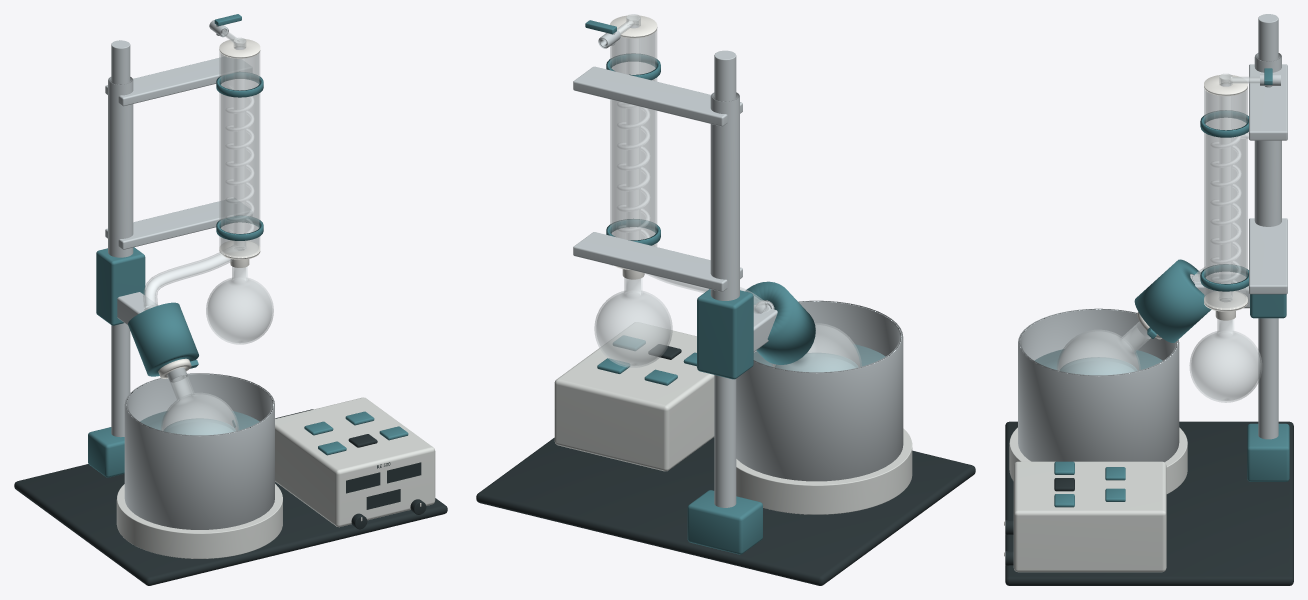
File: preview.glb
3 views of the same model, side by side, from view 1: azimuth 30°, elevation 25°; view 2: azimuth 150°, elevation 25°; view 3: azimuth 270°, elevation 25° (orthographic). The views are drawn at different scales.
Parts seen in each view (by area): view 1: Lift mast, Bath heater housing, Bench base, Condenser support bracket, Cooling water port, Condenser clamp band, Hollow round-bottom flask.001, Annular motor housing, Hollow round-bottom flask, Continuous hollow vapor connector, Mast support, Jacket end seal (+2 smaller); view 2: Lift mast, Bench base, Bath heater housing, Condenser support bracket, Cooling water port, Condenser clamp band, Hollow round-bottom flask.001, Mast support, Annular motor housing, Hollow round-bottom flask, Jacket end seal, Horizontal synthetic liquid (+1 smaller); view 3: Lift mast, Bench base, Bath heater housing, Cooling water port, Condenser support bracket, Hollow round-bottom flask.001, Annular motor housing, Hollow round-bottom flask, Condenser clamp band, Mast support, Jacket end seal, Horizontal synthetic liquid (+1 smaller).
Part boxes in pixels (box(x1,y1,x2,y2)): Lift mast: box(111, 40, 274, 529); Bath heater housing: box(116, 397, 435, 558); Bench base: box(14, 409, 447, 585); Condenser support bracket: box(105, 20, 252, 324); Cooling water port: box(219, 37, 260, 257); Condenser clamp band: box(96, 72, 263, 325); Hollow round-bottom flask.001: box(206, 266, 273, 344); Annular motor housing: box(128, 302, 198, 376); Hollow round-bottom flask: box(160, 368, 239, 435); Continuous hollow vapor connector: box(143, 29, 238, 308); Mast support: box(88, 427, 124, 477); Jacket end seal: box(219, 38, 260, 267); Lift mast: box(714, 50, 903, 507); Bench base: box(476, 437, 975, 585); Bath heater housing: box(554, 322, 912, 514); Condenser support bracket: box(573, 29, 777, 351); Cooling water port: box(608, 14, 657, 265); Condenser clamp band: box(606, 53, 753, 379); Hollow round-bottom flask.001: box(594, 278, 672, 367); Mast support: box(687, 490, 762, 554); Annular motor housing: box(745, 281, 815, 364); Hollow round-bottom flask: box(771, 323, 861, 372); Jacket end seal: box(610, 15, 657, 279); Horizontal synthetic liquid: box(775, 353, 857, 371); Lift mast: box(1018, 14, 1278, 462); Bench base: box(1005, 421, 1293, 585); Bath heater housing: box(1009, 427, 1187, 572); Cooling water port: box(1204, 73, 1248, 309); Condenser support bracket: box(1192, 53, 1287, 308); Hollow round-bottom flask.001: box(1189, 319, 1262, 402); Annular motor housing: box(1134, 259, 1211, 342); Hollow round-bottom flask: box(1056, 322, 1150, 375); Condenser clamp band: box(1200, 110, 1286, 318); Mast support: box(1247, 423, 1289, 481); Jacket end seal: box(1204, 74, 1247, 320); Horizontal synthetic liquid: box(1060, 357, 1137, 374).
Bounding box in the file's own units: 0.44 × 0.6 × 0.3413.
